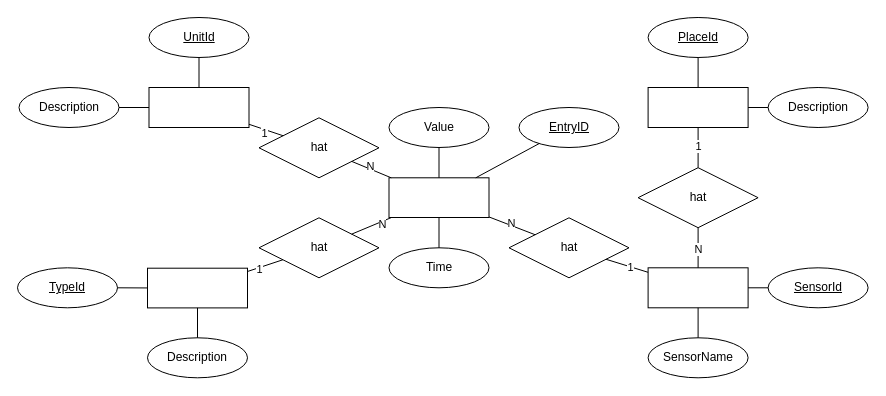
Some shapes in this 886 by 396 pixel diagram are drawn without their labels. Each missing label, with the centre of its shape:
"Entry" goes at [438,197].
"Location" goes at [697,107].
"Sensor" goes at [697,287].
"Type" goes at [197,287].
"Unit" goes at [198,107].
